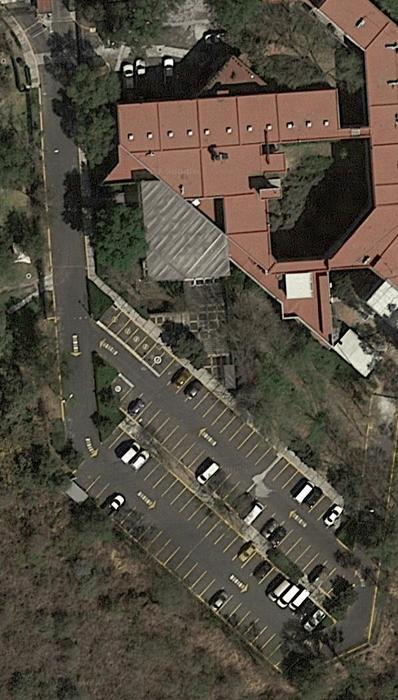parkingspot: (114, 385, 353, 603), (83, 472, 301, 675), (108, 429, 277, 586), (160, 359, 281, 473), (95, 303, 176, 378), (265, 455, 345, 529)
